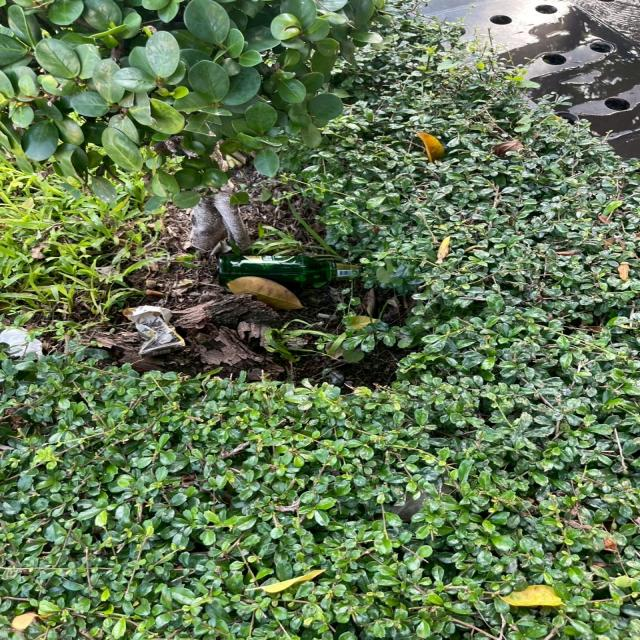glass bottle: (218, 252, 381, 282)
